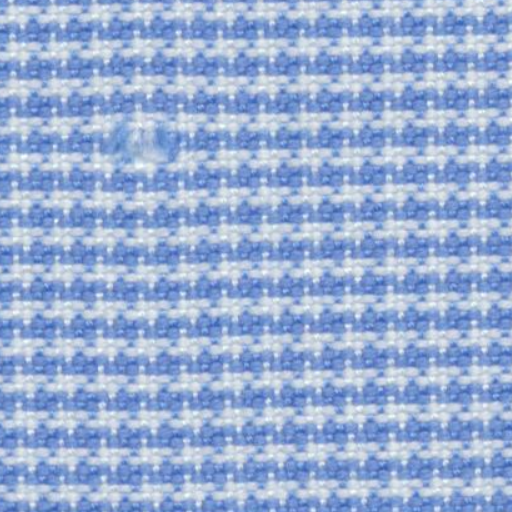PoDong: (89, 108, 196, 190)
